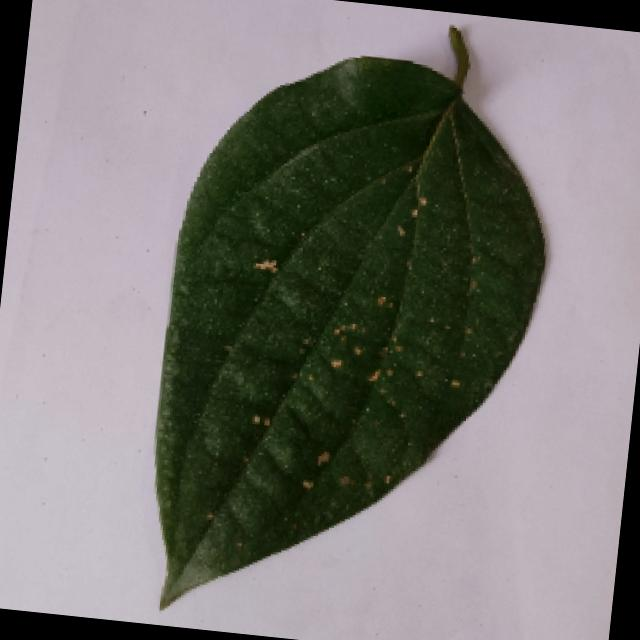pollu-disease: (141, 4, 570, 640)
